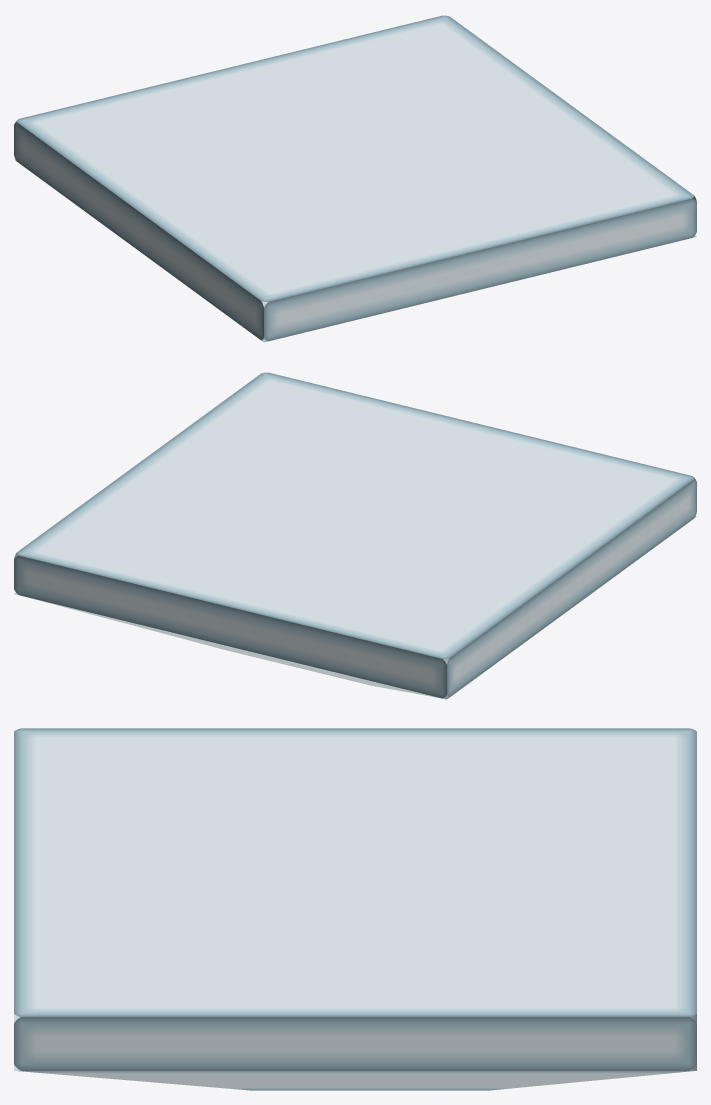
Rendered from Platform.fbx.
3 renders of one model, top to bottom at view 1: azimuth 30°, elevation 25°; view 2: azimuth 150°, elevation 25°; view 3: azimuth 270°, elevation 25°, orthographic. The views are drawn at different scales.
Parts seen in each view (by area): view 1: cube; view 2: cube; view 3: cube.
Part boxes in pixels (x1=…): cube: x1=14, y1=15, x2=696, y2=342; cube: x1=14, y1=372, x2=696, y2=699; cube: x1=14, y1=728, x2=696, y2=1090.
Size of the model in its own units: 288 by 75 by 288.
1 material, 1 textured.
